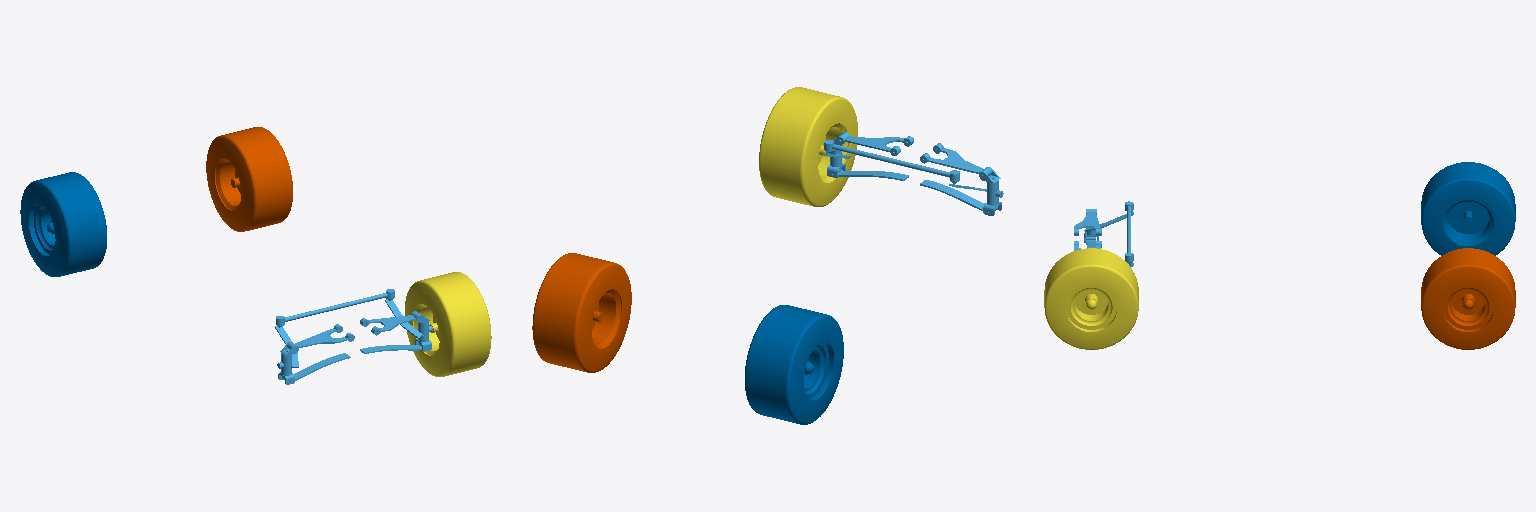
URDF robot description (Alan-v2):
<robot name="Alan-v2">

	<!--.................................................................
		...........................links.................................
		.................................................................
  	-->

	<link name="base_link">
    	<visual>
      		<origin rpy="1.57079632679 0 0" xyz="0 0 0"/>

      		<!-- ............ get the robot ............. -->
      		<geometry>
        		<mesh filename="package://driver/meshes/chassis-subassem.stl" scale="0.001 0.001 0.001"/>
      		</geometry>
    	</visual>
  	</link>

  	<link name="steering_subassem">
    	<visual>
      		<origin rpy="1.57079632679 0 0" xyz="0 0 0"/>
      		<geometry>
        		<mesh filename="package://driver/meshes/steering_subassem.stl" scale="0.001 0.001 0.001"/>
      		</geometry>
    	</visual>
  	</link>

  	<link name="steering_wheel_fr">
    	<visual>
      		<origin rpy="1.57079632679 0 0" xyz="0 0 0"/>
      		<geometry>
        		<mesh filename="package://driver/meshes/fr_wheel.stl" scale="0.001 0.001 0.001"/>
      		</geometry>
    	</visual>
  	</link>

  	<link name="steering_wheel_fl">
    	<visual>
      		<origin rpy="1.57079632679 0 0" xyz="0 0 0"/>
      		<geometry>
        		<mesh filename="package://driver/meshes/fl_wheel.stl" scale="0.001 0.001 0.001"/>
      		</geometry>
    	</visual>
  	</link>

  	<link name="steering_wheel_rr">
    	<visual>
      		<origin rpy="1.57079632679 0 0" xyz="0 0 0"/>
      		<geometry>
        		<mesh filename="package://driver/meshes/rr_wheel.stl" scale="0.001 0.001 0.001"/>
      		</geometry>
    	</visual>
  	</link>

  	<link name="steering_wheel_rl">
    	<visual>
      		<origin rpy="1.57079632679 0 0" xyz="0 0 0"/>
      		<geometry>
        		<mesh filename="package://driver/meshes/rl_wheel.stl" scale="0.001 0.001 0.001"/>
      		</geometry>
    	</visual>
  	</link>



  	<!--.................................................................
		...........................joints................................
		.................................................................
  	-->
  	


  	<joint name="body_to_steering" type="fixed">
      	<parent link="base_link"/>
       	<child link="steering_subassem"/>
       	<origin xyz="0 0 0"/>
    </joint>

<!--
    <joint name="body_to_frw" type="floating">
      	<parent link="base_link"/>
       	<child link="steering_wheel_fr"/>
       	<origin xyz="0 0 0"/>
    </joint>

    <joint name="body_to_flw" type="floating">
      	<parent link="base_link"/>
       	<child link="steering_wheel_fl"/>
       	<origin xyz="0 0 0"/>
    </joint>

-->

    <joint name="body_to_rrw" type="continuous">
      	<parent link="base_link"/>
       	<child link="steering_wheel_rr"/>
       	<origin xyz="0.0 0 0"/>
    </joint>

    <joint name="body_to_rlw" type="continuous">
      	<parent link="base_link"/>
       	<child link="steering_wheel_rl"/>
       	<origin xyz="0 0 0"/>
    </joint>

    <joint name="frw_to_steering" type="continuous">
      	<parent link="steering_subassem"/>
       	<child link="steering_wheel_fr"/>
       	<origin xyz="0 0 0"/>
    </joint>

    <joint name="flw_to_steering" type="continuous">
      	<parent link="steering_subassem"/>
       	<child link="steering_wheel_fl"/>
       	<origin xyz="0 0 0"/>
    </joint>

</robot>

--- What the picture shows (computed from the rendered views, not written in the file) ---
Views: 3 orthographic renders of the robot side by side, from view 1: azimuth 30°, elevation 25°; view 2: azimuth 150°, elevation 25°; view 3: azimuth 270°, elevation 25°.
Robot: Alan-v2 — 6 links, 5 joints (4 continuous, 1 fixed); root link base_link; default pose: all joints at 0.
Visible links, largest first — view 1: steering_wheel_rl, steering_wheel_rr, steering_wheel_fl, steering_subassem; view 2: steering_wheel_rl, steering_wheel_rr, steering_wheel_fl, steering_subassem; view 3: steering_wheel_fl, steering_wheel_rl, steering_wheel_rr, steering_subassem.
Boxes of the visible links, x1=… form: steering_wheel_rl: x1=206, y1=127, x2=292, y2=231; steering_wheel_rr: x1=20, y1=172, x2=106, y2=276; steering_wheel_fl: x1=405, y1=272, x2=491, y2=376; steering_subassem: x1=275, y1=289, x2=432, y2=384; steering_wheel_rl: x1=532, y1=253, x2=631, y2=372; steering_wheel_rr: x1=745, y1=305, x2=843, y2=424; steering_wheel_fl: x1=759, y1=87, x2=857, y2=206; steering_subassem: x1=823, y1=132, x2=1003, y2=215; steering_wheel_fl: x1=1044, y1=248, x2=1138, y2=349; steering_wheel_rl: x1=1421, y1=248, x2=1515, y2=349; steering_wheel_rr: x1=1421, y1=162, x2=1515, y2=255; steering_subassem: x1=1074, y1=201, x2=1133, y2=266.
Bounding box of the posed robot: 1.12 × 2.1 × 0.4191 m (x, y, z).
Meshes: 6 distinct files referenced, 4 mesh visuals loaded (4 binary STL); not drawn: 2 (reference not matched to a file when rendering).
